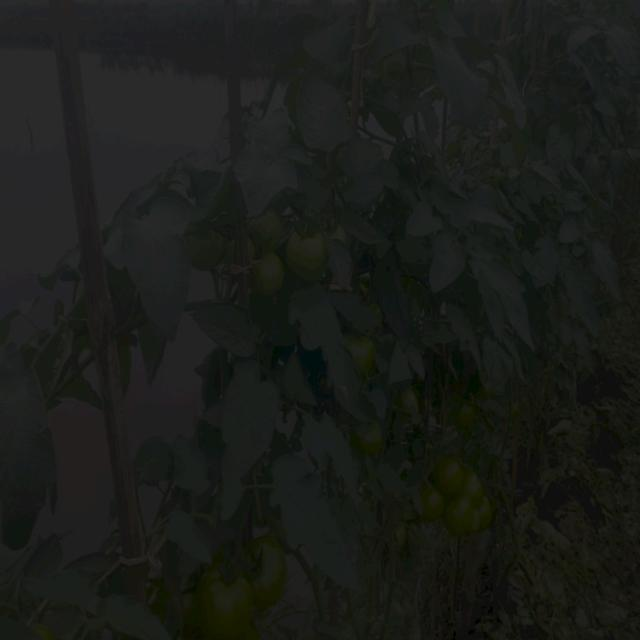tomato: (199, 569, 263, 640), (182, 218, 234, 276), (287, 230, 337, 286), (250, 535, 290, 602), (352, 334, 386, 381), (250, 209, 287, 246), (250, 255, 285, 291), (449, 497, 477, 539), (438, 457, 465, 496), (354, 424, 386, 456), (459, 398, 483, 435), (469, 482, 490, 521), (405, 385, 424, 425)
